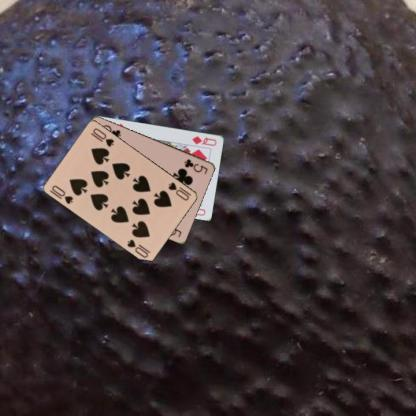10s: (166, 180, 192, 202), (50, 183, 74, 205)
5c: (182, 156, 209, 175)
Qd: (189, 133, 218, 147)
